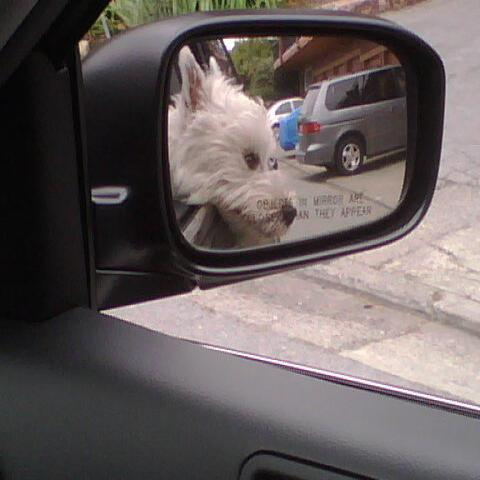car: (0, 0, 479, 438), (295, 67, 407, 176), (268, 96, 303, 142), (278, 108, 302, 151)
